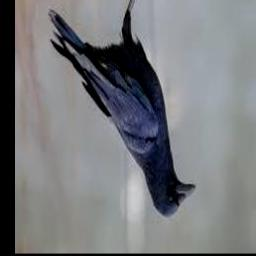Crow: (48, 0, 195, 218)
